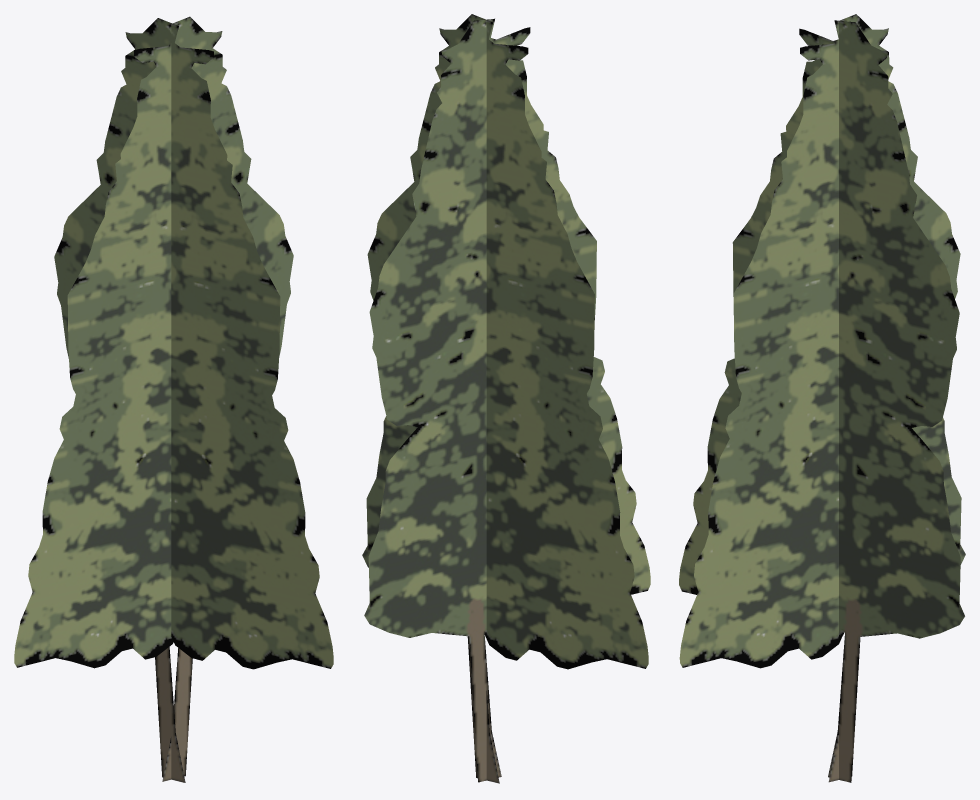
File: pine_tree.dae
3 views of the same model, side by side, from view 1: azimuth 30°, elevation 25°; view 2: azimuth 150°, elevation 25°; view 3: azimuth 270°, elevation 25° (orthographic).
Visible parts, largest first — view 1: group_1, group_0; view 2: group_0, group_1; view 3: group_1 (×2).
Part boxes in pixels (left/top/right/bottom): group_1: left=54, top=18, right=333, bottom=782; group_0: left=14, top=16, right=293, bottom=781; group_0: left=362, top=14, right=648, bottom=783; group_1: left=364, top=18, right=650, bottom=782; group_1 (×2): left=679, top=14, right=965, bottom=782.
Bounding box in the file's own units: 54.73 × 47.52 × 139.
1 material, 1 textured.
